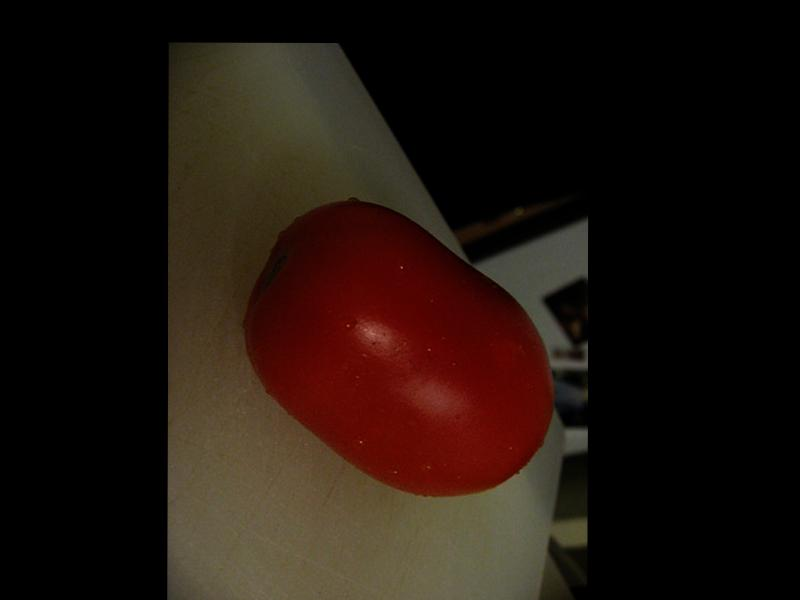Tomato: (245, 199, 555, 496)
